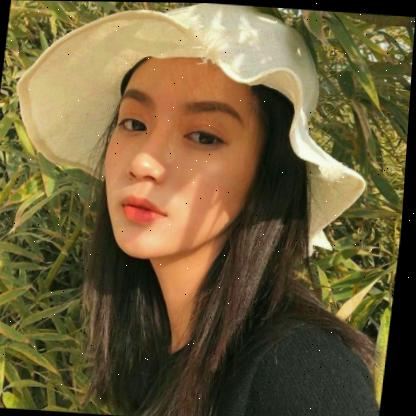person: (79, 27, 321, 270)
